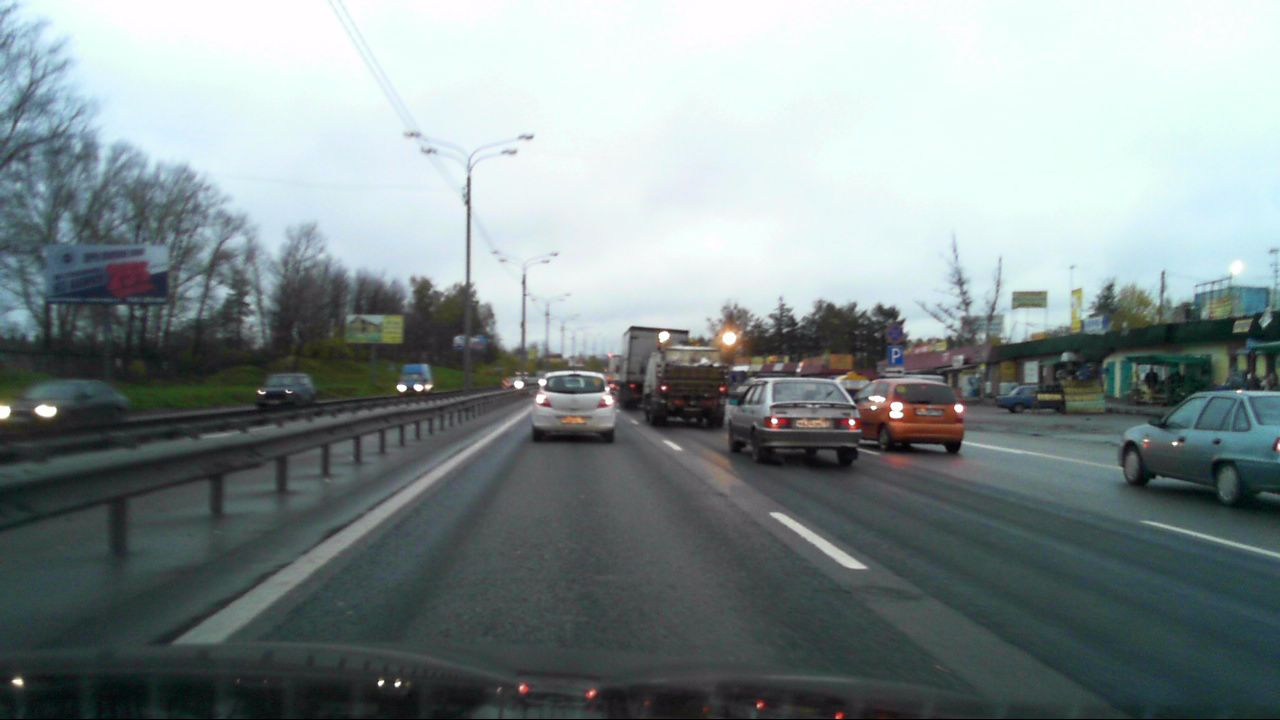No Parking: (883, 326, 903, 344)
